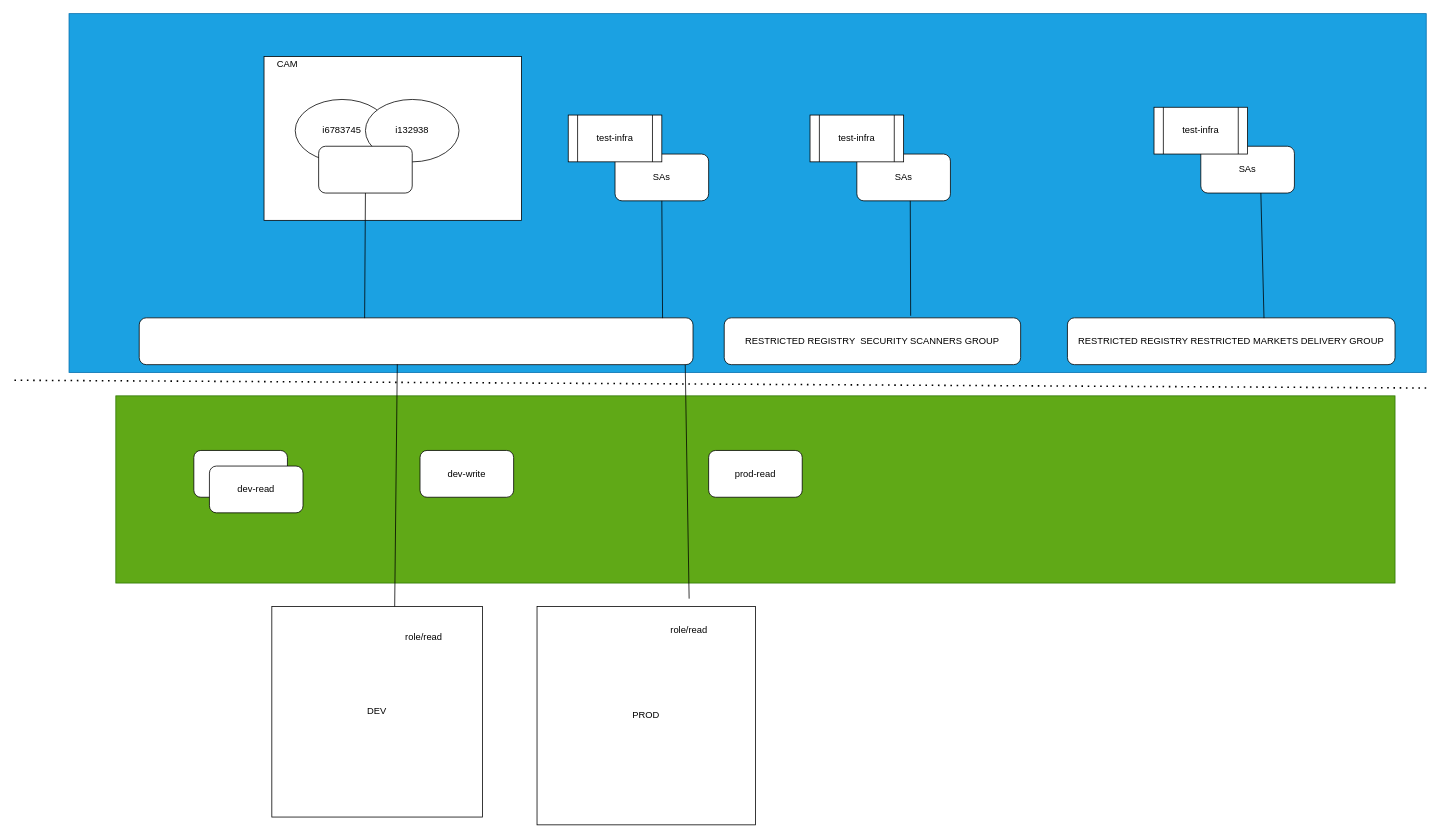
The diagram is 1445 pixels wide and 838 high, and some of its shapes have lost their labels. The centre of each missing label's shape, as x and y in pixels:
DEVELOPERS: point 365,169
RESTRICTED REGISTRY ACCESS GROUP: point 415,341
